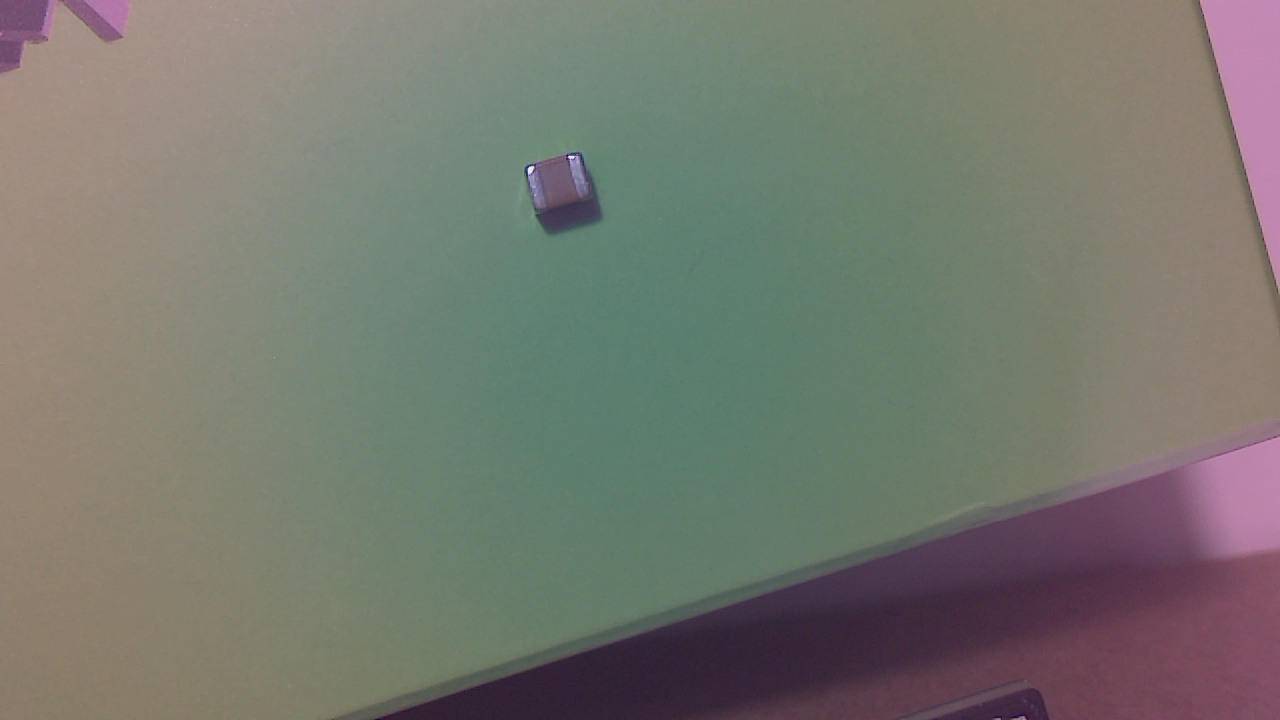Condensator: (528, 153, 600, 223)
